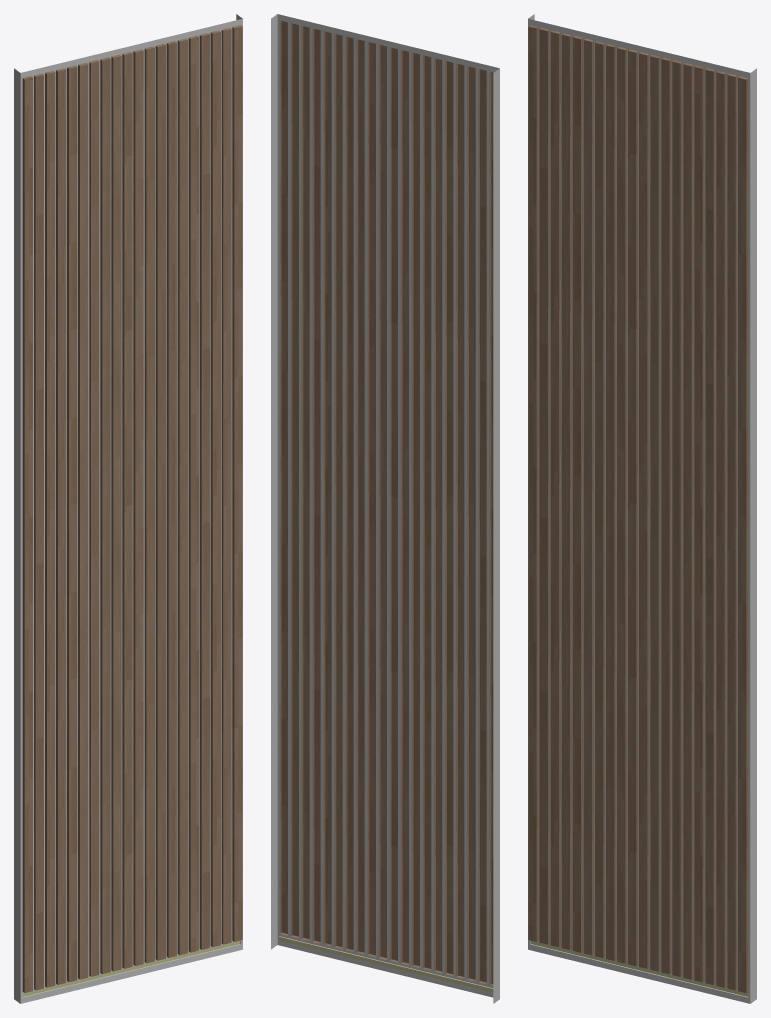
3 renders of one model, left to right at view 1: azimuth 30°, elevation 25°; view 2: azimuth 150°, elevation 25°; view 3: azimuth 330°, elevation 25°, orthographic.
Visible parts, largest first — view 1: M_W_002_e_2x8; view 2: M_W_002_e_2x8; view 3: M_W_002_e_2x8.
Part boxes in pixels (bbox=[...]): M_W_002_e_2x8: bbox=[14, 14, 242, 1003]; M_W_002_e_2x8: bbox=[271, 14, 499, 1003]; M_W_002_e_2x8: bbox=[528, 14, 756, 1003].
Size of the model in its own units: 2 by 8 by 0.13.
